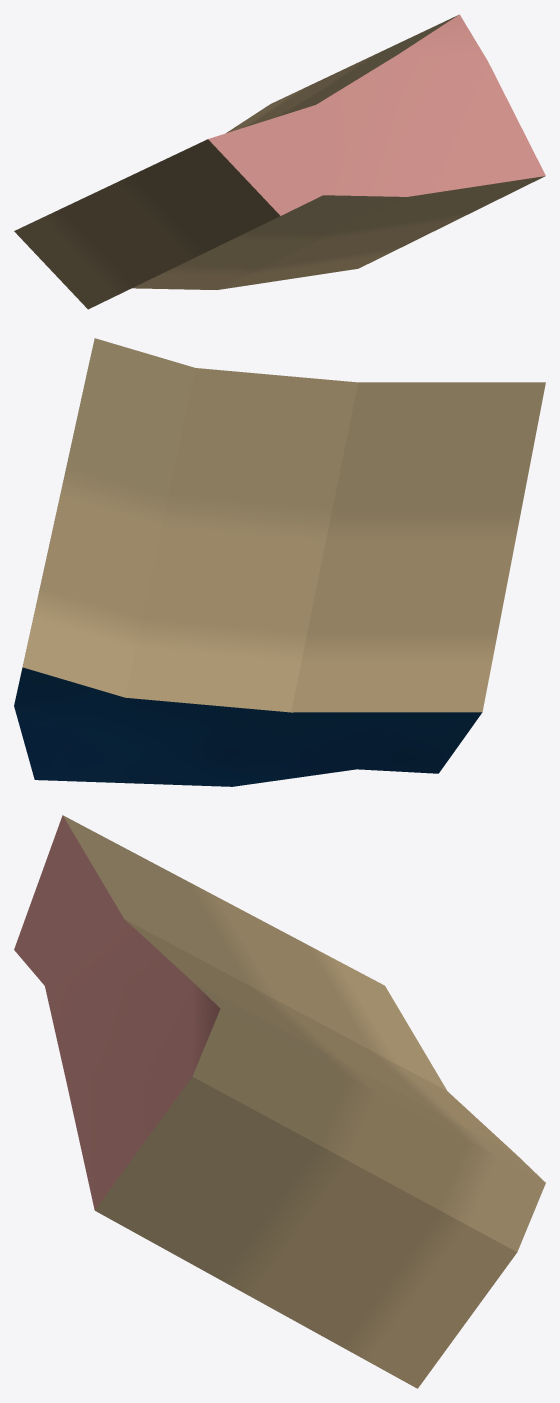
File: 0688_Latvia.glb
The picture shows the model from 3 angles, top to bottom: view 1: azimuth 30°, elevation 25°; view 2: azimuth 150°, elevation 25°; view 3: azimuth 270°, elevation 25°; orthographic projection. The views are drawn at different scales.
Visible parts, largest first — view 1: part_0; view 2: part_0; view 3: part_0.
Boxes of the visible parts, x1,y1,x2,y2 form: part_0: [14, 14, 545, 309]; part_0: [14, 338, 545, 786]; part_0: [14, 815, 545, 1388].
Size of the model in its own units: 0.3066 by 0.211 by 0.2563.
1 material, 1 textured.
